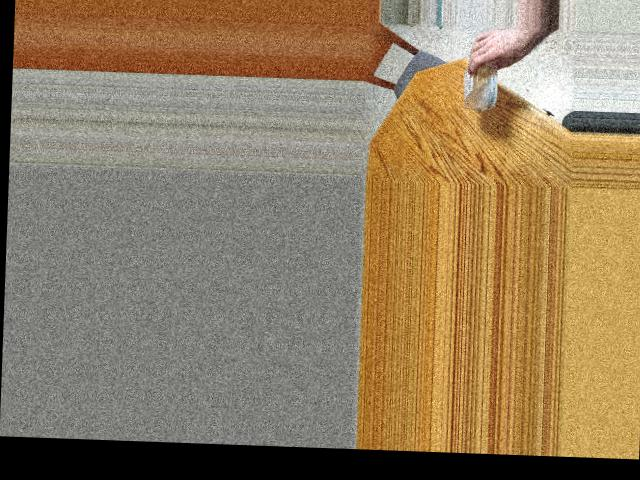cheese: (452, 41, 510, 107)
